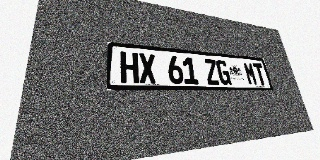1: (181, 57, 199, 84)
6: (167, 55, 184, 84)
G: (215, 60, 232, 85)
H: (120, 51, 139, 83)
M: (243, 62, 258, 85)
T: (252, 63, 267, 85)
X: (138, 53, 157, 84)
Z: (203, 59, 220, 85)
